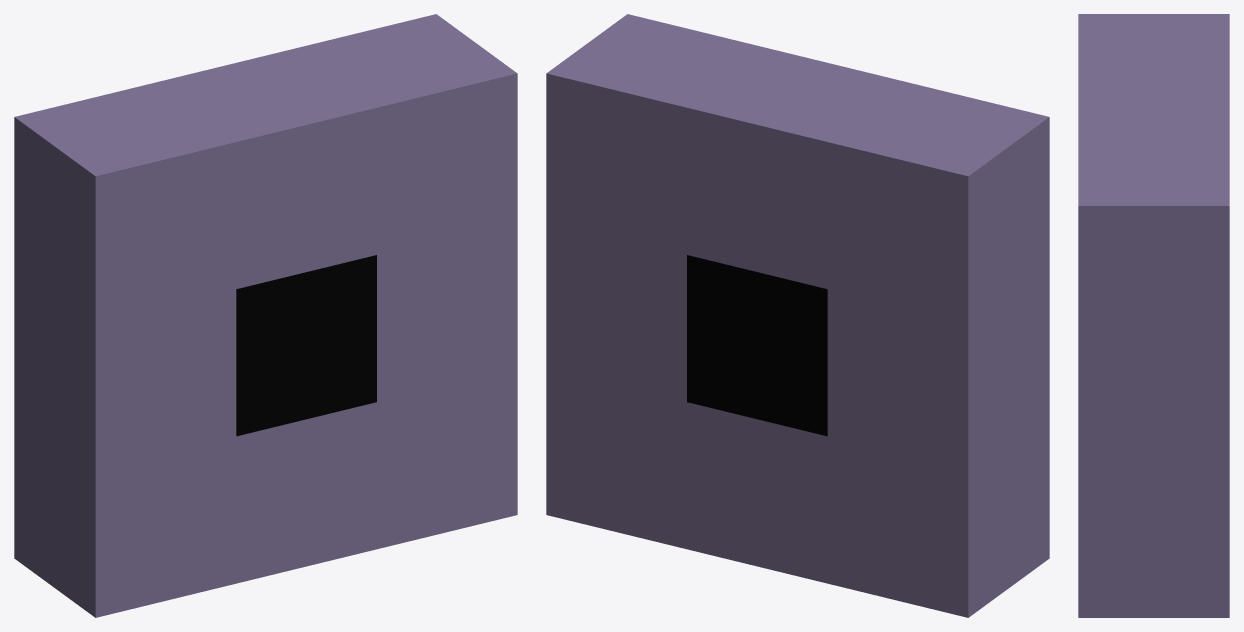
File: wall_trap_a.obj
The picture shows the model from 3 angles, left to right: view 1: azimuth 30°, elevation 25°; view 2: azimuth 150°, elevation 25°; view 3: azimuth 270°, elevation 25°; orthographic projection. The views are drawn at different scales.
Bounding box in the file's own units: 0.3 × 0.3 × 0.1.
Materials: 1 (1 with a texture image).
